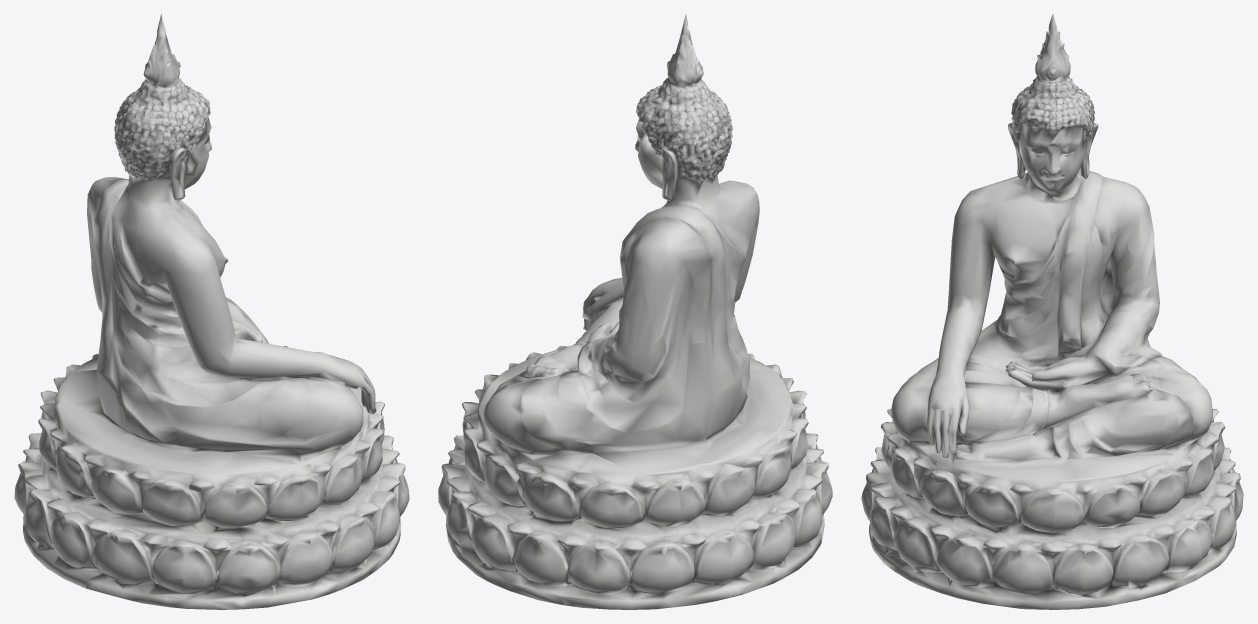
Rendered from buddha-white.glb.
3 views of the same model, side by side, from view 1: azimuth 30°, elevation 25°; view 2: azimuth 150°, elevation 25°; view 3: azimuth 270°, elevation 25° (orthographic). The views are drawn at different scales.
Visible parts, largest first — view 1: tripo_node_98435a4e-340c-4200-8d6f-01aeebd3dc10; view 2: tripo_node_98435a4e-340c-4200-8d6f-01aeebd3dc10; view 3: tripo_node_98435a4e-340c-4200-8d6f-01aeebd3dc10.
Part boxes in pixels (x1=…): tripo_node_98435a4e-340c-4200-8d6f-01aeebd3dc10: x1=14, y1=14, x2=409, y2=609; tripo_node_98435a4e-340c-4200-8d6f-01aeebd3dc10: x1=438, y1=14, x2=832, y2=609; tripo_node_98435a4e-340c-4200-8d6f-01aeebd3dc10: x1=861, y1=14, x2=1243, y2=609.
Size of the model in its own units: 0.6679 by 0.9994 by 0.6956.
1 material, 1 textured.
